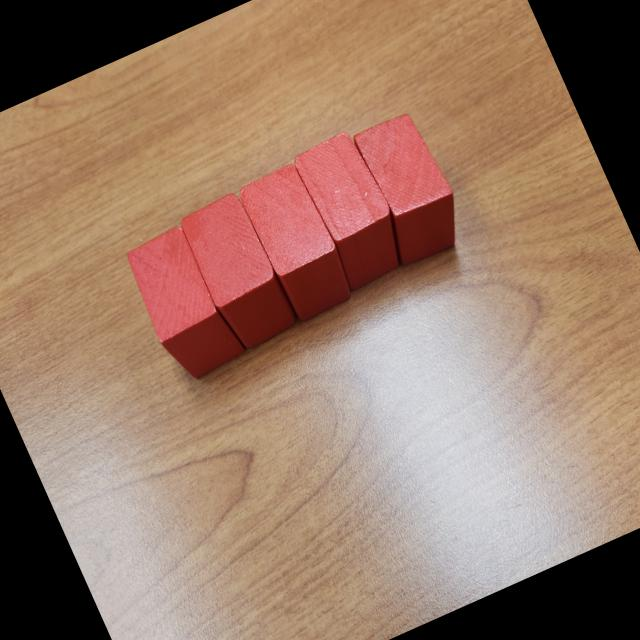red: (115, 216, 250, 390), (342, 104, 474, 270), (288, 126, 416, 294), (232, 160, 358, 326), (176, 188, 300, 354)
